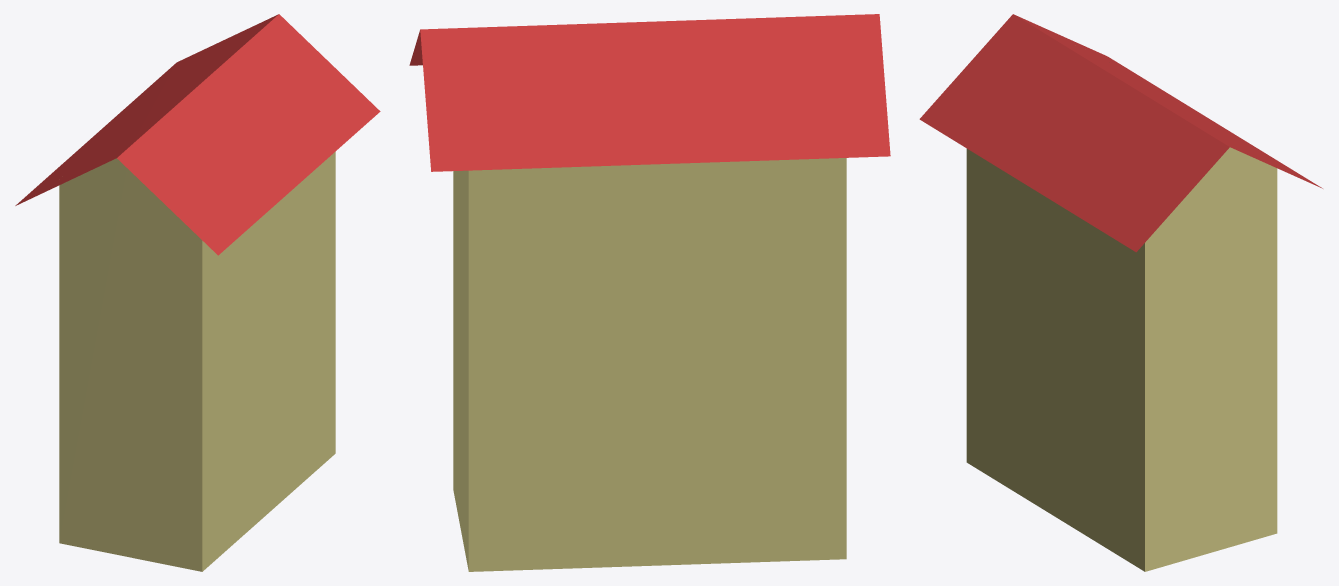
3 views of the same model, side by side, from view 1: azimuth 30°, elevation 25°; view 2: azimuth 150°, elevation 25°; view 3: azimuth 270°, elevation 25° (orthographic). The views are drawn at different scales.
Bounding box in the file's own units: 6.54 × 5.96 × 6.77.
